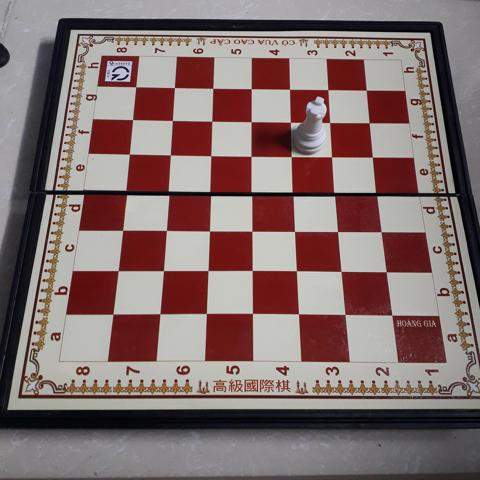xcorner: (335, 262, 352, 279), (110, 260, 126, 277), (158, 220, 175, 236), (332, 221, 348, 238), (204, 145, 220, 162), (106, 305, 122, 321), (153, 305, 169, 321), (200, 305, 216, 321), (246, 306, 262, 322), (293, 306, 309, 322), (339, 306, 355, 322), (385, 307, 401, 323), (156, 261, 172, 277), (201, 261, 217, 277), (246, 262, 262, 278), (291, 262, 307, 278), (380, 263, 396, 279), (115, 219, 131, 235), (202, 220, 218, 236), (246, 221, 262, 237), (289, 221, 305, 237), (375, 222, 391, 238), (119, 181, 135, 197), (161, 181, 177, 197), (203, 182, 219, 198), (245, 182, 261, 198), (287, 183, 303, 199), (329, 183, 345, 199), (371, 184, 387, 200), (122, 144, 138, 160), (163, 145, 179, 161), (245, 146, 261, 162), (286, 147, 302, 163), (326, 147, 342, 163), (367, 148, 383, 164), (126, 110, 142, 126), (166, 111, 182, 127), (205, 112, 221, 128), (245, 112, 261, 128), (284, 113, 300, 129), (324, 113, 340, 129), (363, 114, 379, 130), (129, 78, 145, 94), (168, 79, 184, 95), (206, 80, 222, 96), (245, 80, 261, 96), (283, 81, 299, 97), (321, 82, 337, 98), (359, 82, 375, 98)
